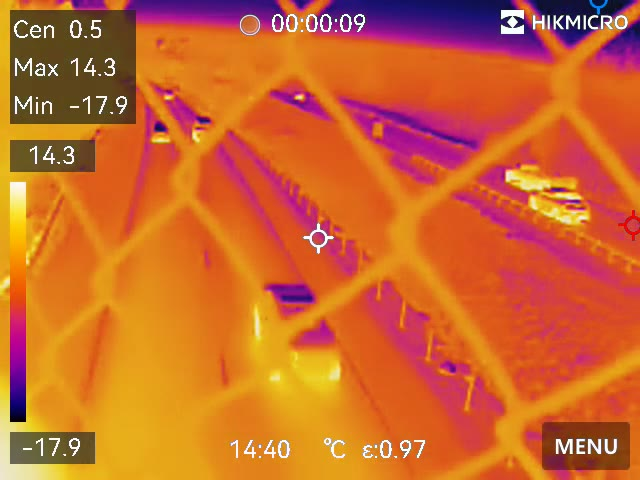smallCar: (529, 187, 588, 225)
vehicle: (245, 275, 348, 397), (501, 166, 588, 194), (148, 114, 173, 147), (191, 114, 214, 142)
